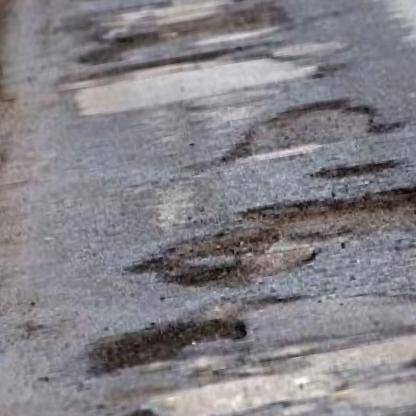pothole: (116, 170, 416, 304), (212, 82, 414, 172), (73, 0, 298, 71), (76, 308, 255, 383), (307, 151, 406, 185)
